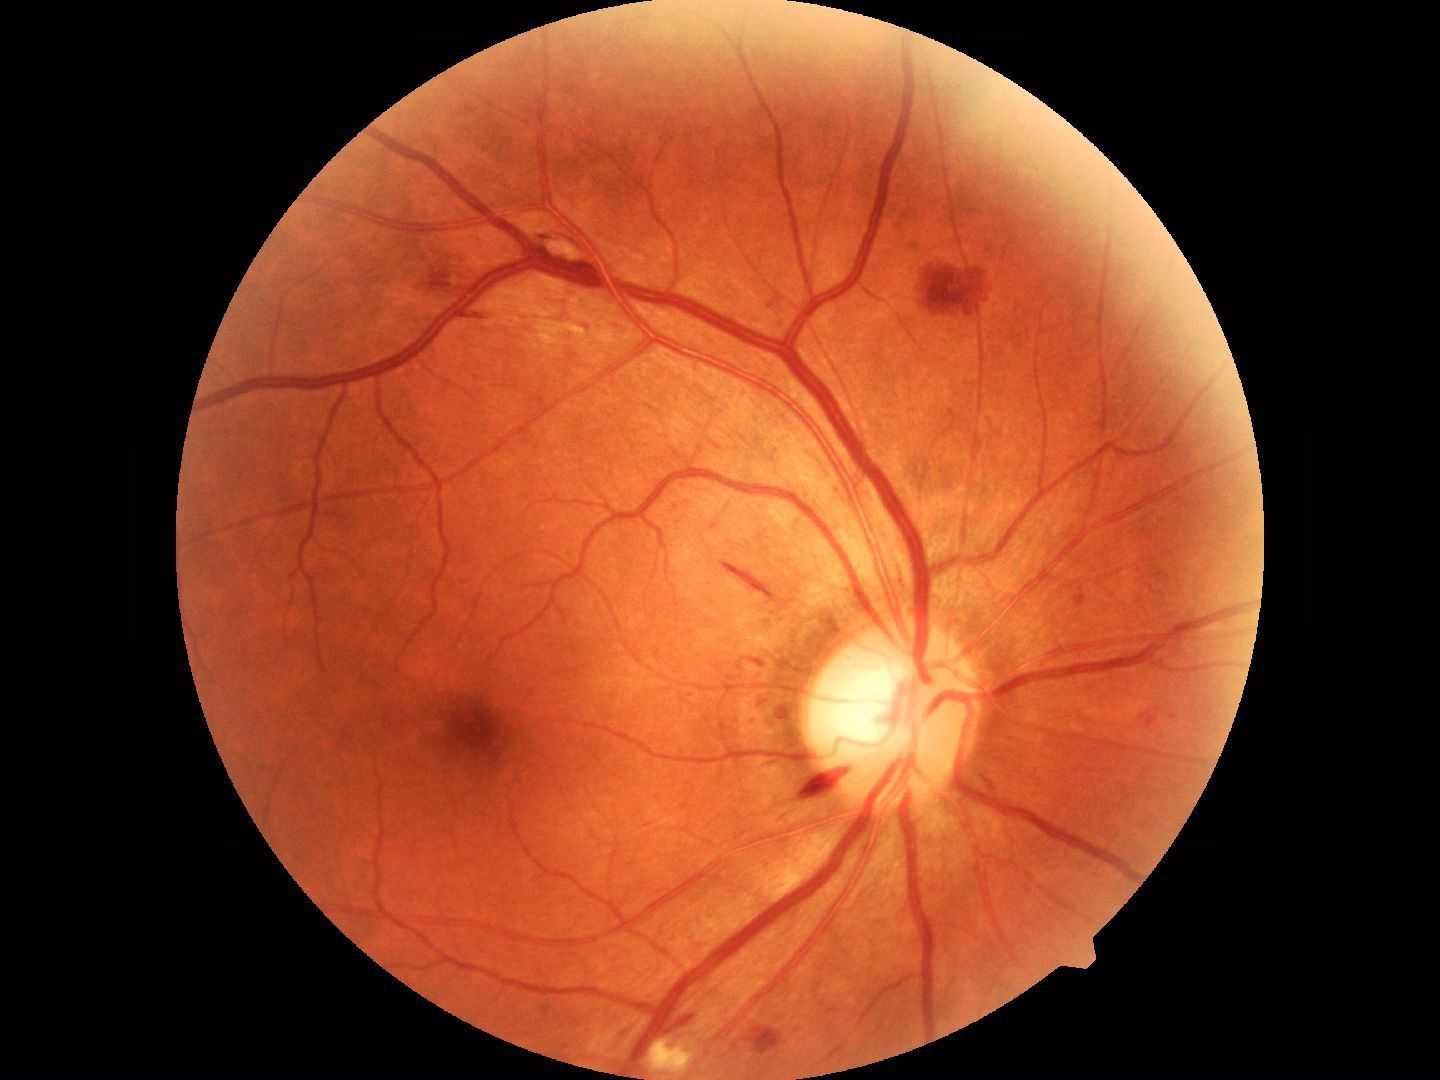Arterioles: (295, 439, 566, 604)
Exudates: (639, 1035, 696, 1070)
Hemorrhages: (417, 686, 535, 775)
Microaneurysms: (925, 236, 996, 326), (734, 1021, 794, 1057)
Optic-Disc: (798, 604, 980, 798)
Venules: (525, 221, 839, 376), (810, 419, 934, 585)
